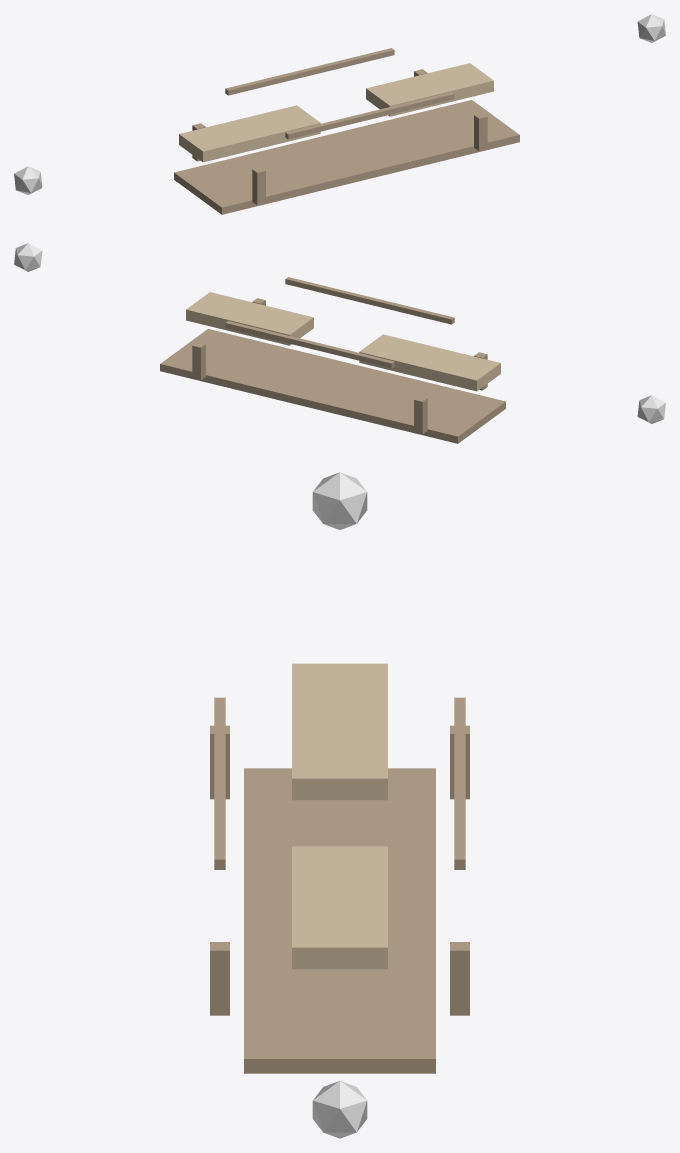
File: COASTAL_BOARDWALK_001_LOD_MAP.glb
3 views of the same model, one above another, from view 1: azimuth 30°, elevation 25°; view 2: azimuth 150°, elevation 25°; view 3: azimuth 270°, elevation 25° (orthographic). The views are drawn at different scales.
Parts seen in each view (by area): view 1: COASTAL_BOARDWALK_001_LOD_MAP_GROUND_SOCKET, COASTAL_BOARDWALK_001_LOD_MAP_DECK_MAP_A, COASTAL_BOARDWALK_001_LOD_MAP_DECK_MAP_B, COASTAL_BOARDWALK_001_LOD_MAP_RAIL_RIGHT, COASTAL_BOARDWALK_001_LOD_MAP_RAIL_LEFT, COASTAL_BOARDWALK_001_LOD_MAP_SNAP_IN, COASTAL_BOARDWALK_001_LOD_MAP_SNAP_OUT, COASTAL_BOARDWALK_001_LOD_MAP_POST_RIGHT_A, COASTAL_BOARDWALK_001_LOD_MAP_POST_RIGHT_B; view 2: COASTAL_BOARDWALK_001_LOD_MAP_GROUND_SOCKET, COASTAL_BOARDWALK_001_LOD_MAP_DECK_MAP_A, COASTAL_BOARDWALK_001_LOD_MAP_DECK_MAP_B, COASTAL_BOARDWALK_001_LOD_MAP_RAIL_LEFT, COASTAL_BOARDWALK_001_LOD_MAP_RAIL_RIGHT, COASTAL_BOARDWALK_001_LOD_MAP_SNAP_IN, COASTAL_BOARDWALK_001_LOD_MAP_SNAP_OUT, COASTAL_BOARDWALK_001_LOD_MAP_POST_LEFT_A, COASTAL_BOARDWALK_001_LOD_MAP_POST_LEFT_B; view 3: COASTAL_BOARDWALK_001_LOD_MAP_GROUND_SOCKET, COASTAL_BOARDWALK_001_LOD_MAP_DECK_MAP_A, COASTAL_BOARDWALK_001_LOD_MAP_DECK_MAP_B, COASTAL_BOARDWALK_001_LOD_MAP_SNAP_IN, COASTAL_BOARDWALK_001_LOD_MAP_SNAP_OUT, COASTAL_BOARDWALK_001_LOD_MAP_RAIL_LEFT, COASTAL_BOARDWALK_001_LOD_MAP_RAIL_RIGHT, COASTAL_BOARDWALK_001_LOD_MAP_POST_LEFT_B, COASTAL_BOARDWALK_001_LOD_MAP_POST_RIGHT_B.
Part boxes in pixels (<box>): COASTAL_BOARDWALK_001_LOD_MAP_GROUND_SOCKET: <box>174,100,519,214</box>; COASTAL_BOARDWALK_001_LOD_MAP_DECK_MAP_A: <box>179,105,320,162</box>; COASTAL_BOARDWALK_001_LOD_MAP_DECK_MAP_B: <box>366,63,493,116</box>; COASTAL_BOARDWALK_001_LOD_MAP_RAIL_RIGHT: <box>285,92,454,139</box>; COASTAL_BOARDWALK_001_LOD_MAP_RAIL_LEFT: <box>225,48,394,95</box>; COASTAL_BOARDWALK_001_LOD_MAP_SNAP_IN: <box>14,166,42,194</box>; COASTAL_BOARDWALK_001_LOD_MAP_SNAP_OUT: <box>637,14,665,42</box>; COASTAL_BOARDWALK_001_LOD_MAP_POST_RIGHT_A: <box>252,167,265,205</box>; COASTAL_BOARDWALK_001_LOD_MAP_POST_RIGHT_B: <box>474,113,487,151</box>; COASTAL_BOARDWALK_001_LOD_MAP_GROUND_SOCKET: <box>160,329,505,443</box>; COASTAL_BOARDWALK_001_LOD_MAP_DECK_MAP_A: <box>359,334,500,391</box>; COASTAL_BOARDWALK_001_LOD_MAP_DECK_MAP_B: <box>186,292,313,345</box>; COASTAL_BOARDWALK_001_LOD_MAP_RAIL_LEFT: <box>225,321,394,368</box>; COASTAL_BOARDWALK_001_LOD_MAP_RAIL_RIGHT: <box>285,277,454,324</box>; COASTAL_BOARDWALK_001_LOD_MAP_SNAP_IN: <box>637,395,665,423</box>; COASTAL_BOARDWALK_001_LOD_MAP_SNAP_OUT: <box>14,243,42,271</box>; COASTAL_BOARDWALK_001_LOD_MAP_POST_LEFT_A: <box>414,396,427,434</box>; COASTAL_BOARDWALK_001_LOD_MAP_POST_LEFT_B: <box>192,342,205,380</box>; COASTAL_BOARDWALK_001_LOD_MAP_GROUND_SOCKET: <box>244,768,435,1073</box>; COASTAL_BOARDWALK_001_LOD_MAP_DECK_MAP_A: <box>292,663,387,800</box>; COASTAL_BOARDWALK_001_LOD_MAP_DECK_MAP_B: <box>292,846,387,969</box>; COASTAL_BOARDWALK_001_LOD_MAP_SNAP_IN: <box>312,472,367,529</box>; COASTAL_BOARDWALK_001_LOD_MAP_SNAP_OUT: <box>312,1081,367,1138</box>; COASTAL_BOARDWALK_001_LOD_MAP_RAIL_LEFT: <box>454,697,465,869</box>; COASTAL_BOARDWALK_001_LOD_MAP_RAIL_RIGHT: <box>214,697,225,869</box>; COASTAL_BOARDWALK_001_LOD_MAP_POST_LEFT_B: <box>450,942,469,1015</box>; COASTAL_BOARDWALK_001_LOD_MAP_POST_RIGHT_B: <box>210,942,229,1015</box>.
Size of the model in its own units: 1.87 by 0.22 by 0.325.
